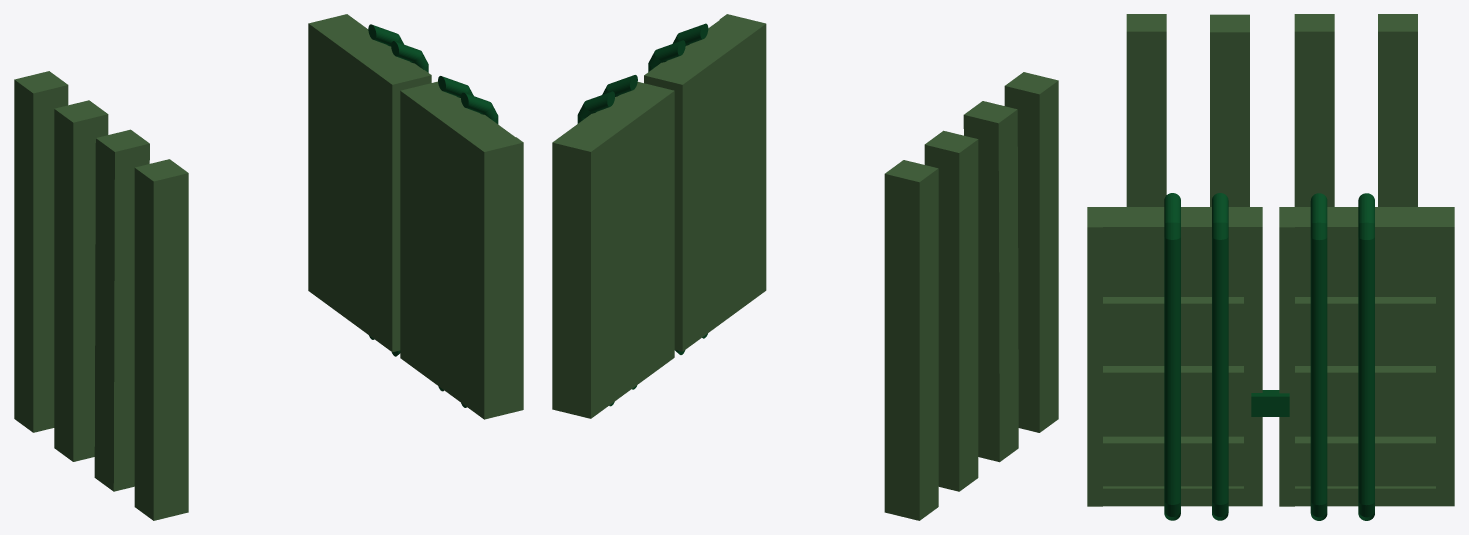
The model's file is cargo.fbx.
3 renders of one model, left to right at view 1: azimuth 30°, elevation 25°; view 2: azimuth 150°, elevation 25°; view 3: azimuth 270°, elevation 25°, orthographic. The views are drawn at different scales.
Visible parts, largest first — view 1: Cube.020, Cube.011, Cylinder.001; view 2: Cube.020, Cube.011, Cylinder.001; view 3: Cube.020, Cube.011, Cylinder.001, Cube.006.
Boxes of the visible parts, <box> form: Cube.020: <box>308,14,523,419</box>; Cube.011: <box>14,71,188,520</box>; Cylinder.001: <box>368,24,498,407</box>; Cube.020: <box>552,14,766,418</box>; Cube.011: <box>884,72,1058,520</box>; Cylinder.001: <box>577,23,708,406</box>; Cube.020: <box>1087,207,1454,506</box>; Cube.011: <box>1126,14,1417,206</box>; Cylinder.001: <box>1164,193,1374,520</box>; Cube.006: <box>1251,390,1289,416</box>.
Bounding box in the file's own units: 504 × 446 × 419.
